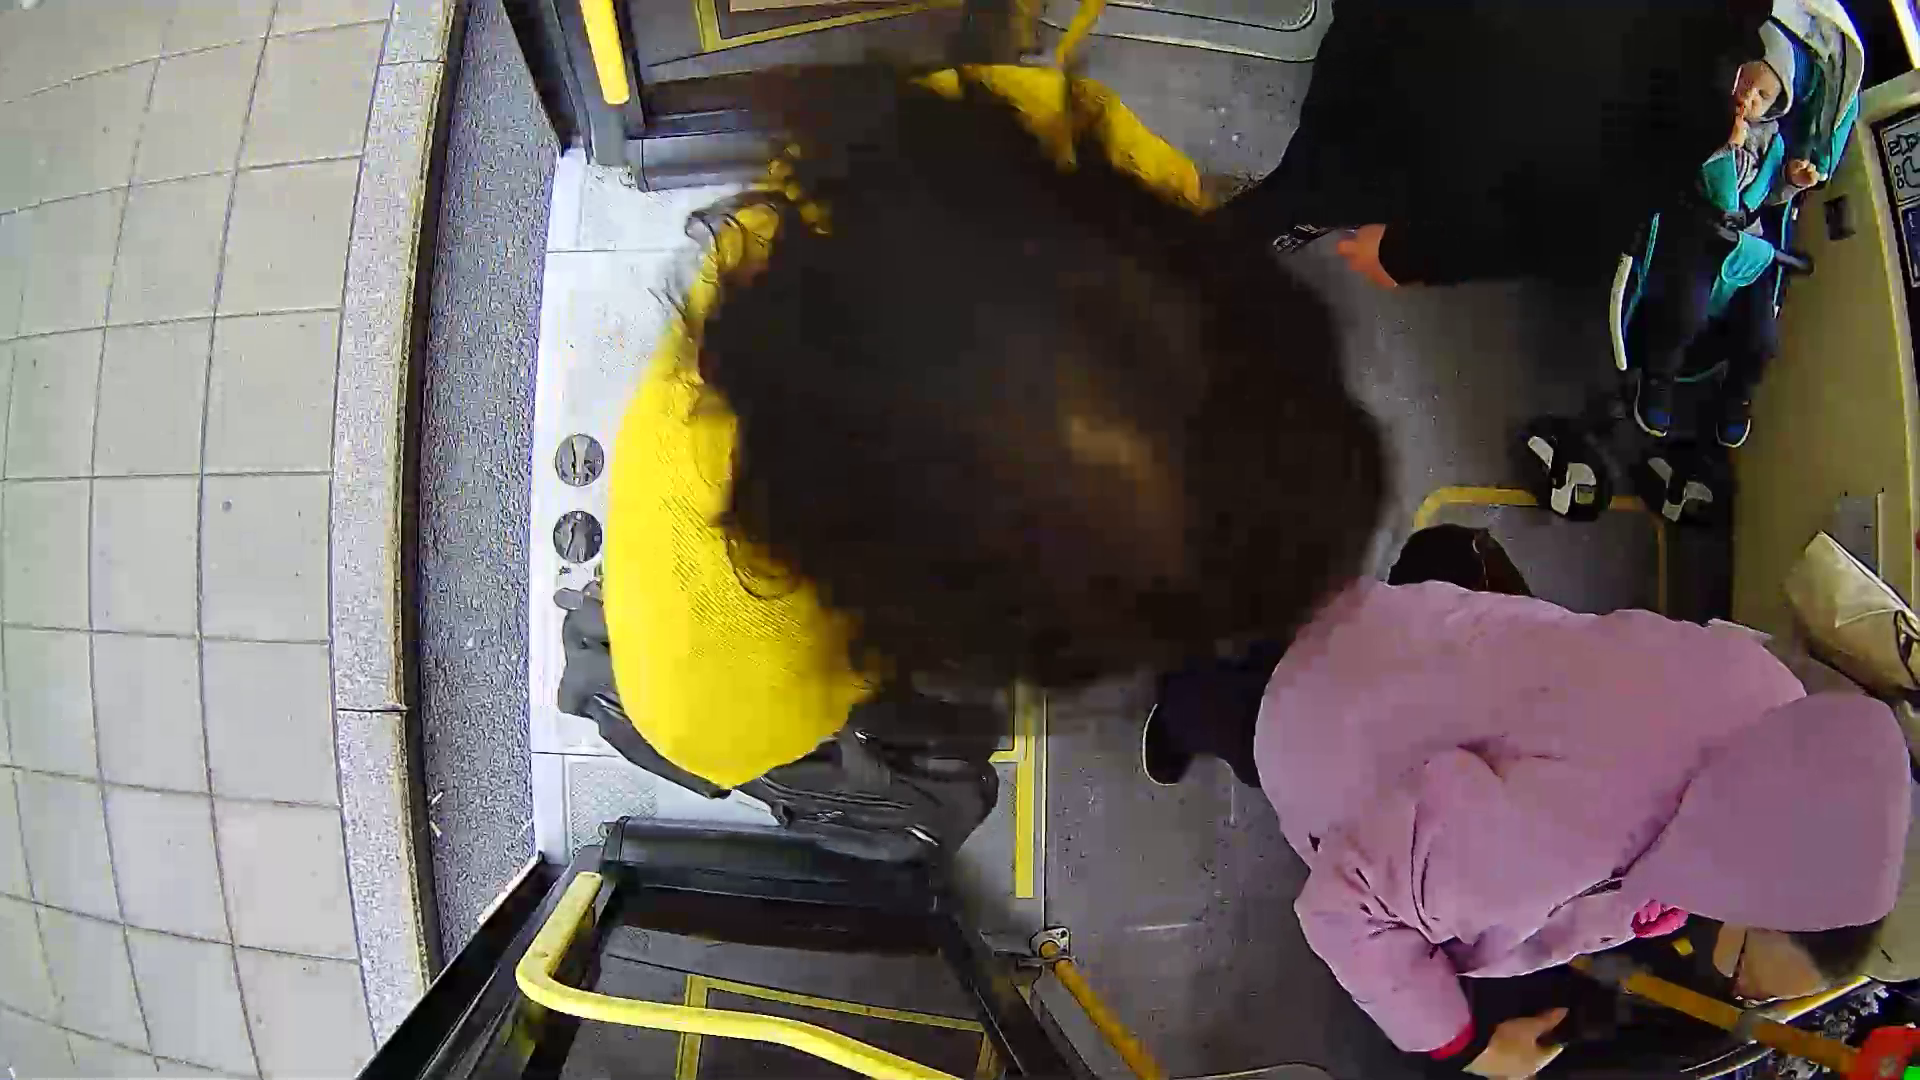person: (547, 79, 1438, 863), (1193, 535, 1910, 1051)
